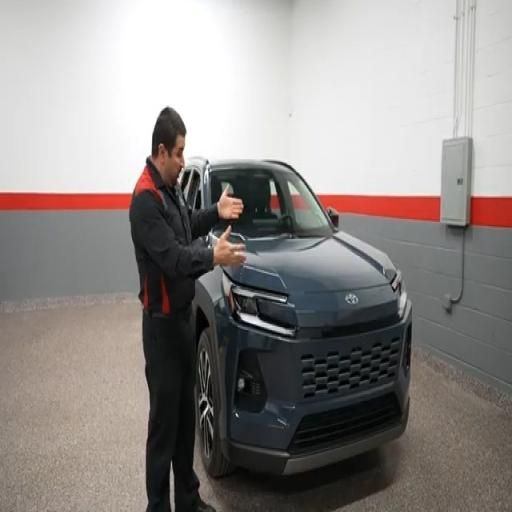bumper: (221, 302, 411, 475), (224, 399, 409, 475)
emblem: (345, 293, 358, 305)
fog_light: (237, 377, 245, 392)
grille: (289, 394, 401, 455), (301, 338, 400, 398)
headlight: (223, 275, 295, 337), (392, 271, 407, 318)
hood: (224, 232, 394, 294)
side_mirror: (327, 207, 339, 227)
wheel: (196, 329, 231, 477)
window: (180, 168, 201, 209), (180, 168, 191, 197)
windshield: (210, 168, 332, 237)
